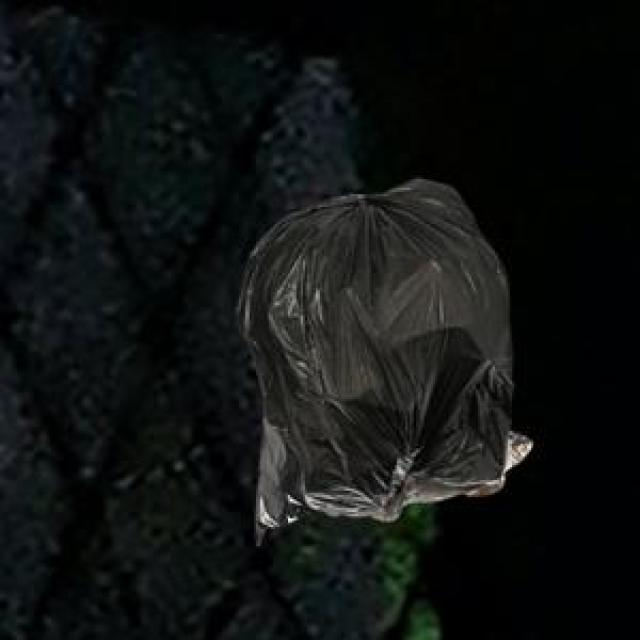miscellaneous trash: (233, 175, 510, 516), (252, 408, 527, 540)
